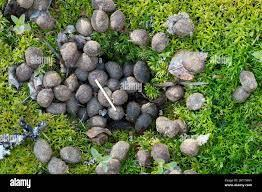Elk: (24, 36, 171, 126)
